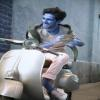motorcycles: (1, 38, 78, 100)
